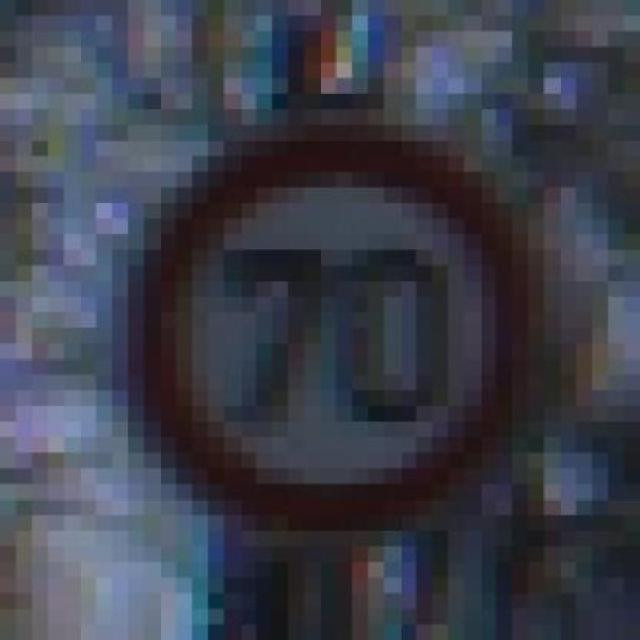forb_speed_over_70: (144, 128, 527, 520)
